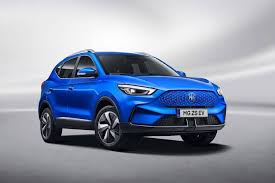XUV 400: (37, 47, 228, 151)
